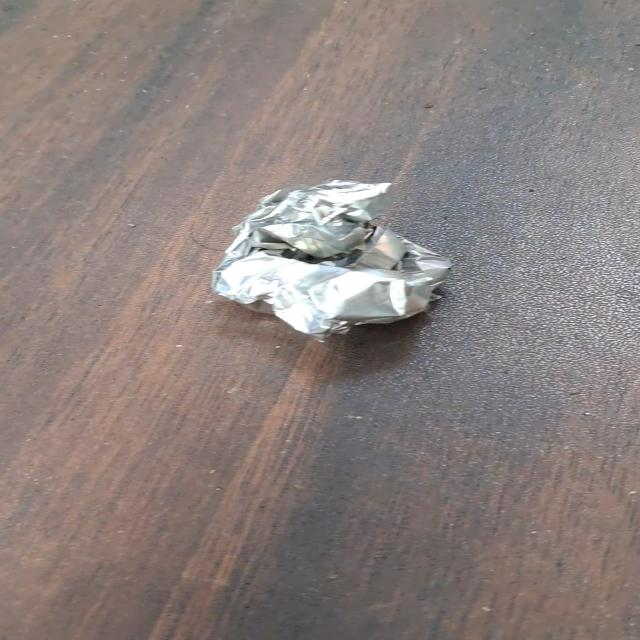Anorganik: (205, 173, 471, 345)
